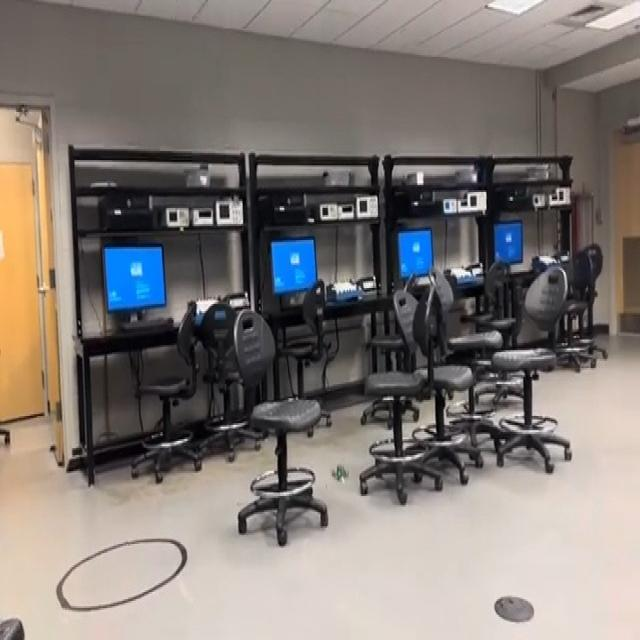drone: (322, 450, 356, 491)
